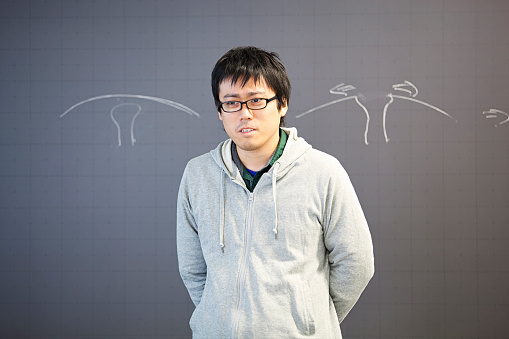em pe: (155, 45, 377, 339)
